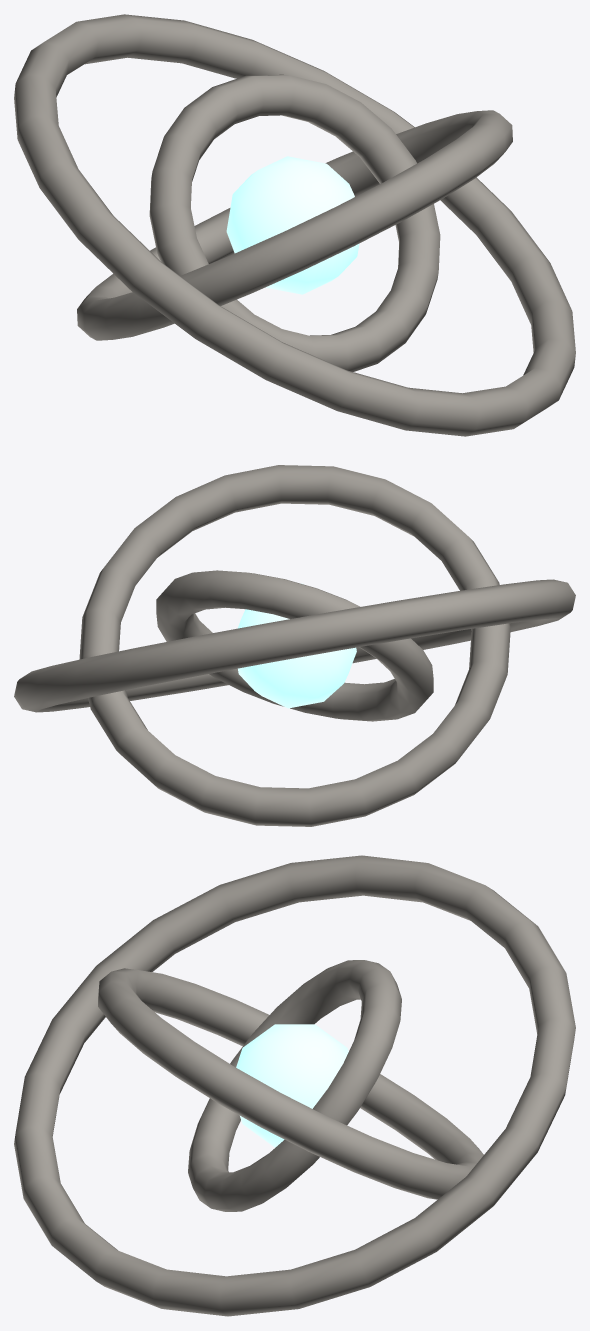
The model's file is SM_Familiar_Astrolabe.fbx.
The picture shows the model from 3 angles, top to bottom: view 1: azimuth 30°, elevation 25°; view 2: azimuth 150°, elevation 25°; view 3: azimuth 270°, elevation 25°; orthographic projection. The views are drawn at different scales.
Parts seen in each view (by area): view 1: Torus; view 2: Torus; view 3: Torus.
Boxes of the visible parts, bbox=[...] form: Torus: bbox=[14, 14, 575, 436]; Torus: bbox=[14, 465, 575, 826]; Torus: bbox=[14, 855, 575, 1316].
Bounding box in the file's own units: 0.3898 × 0.3758 × 0.2067.
